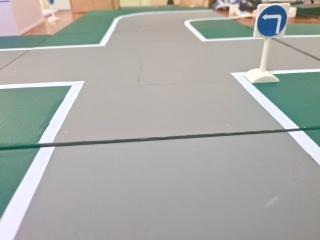left: (251, 3, 291, 41)
